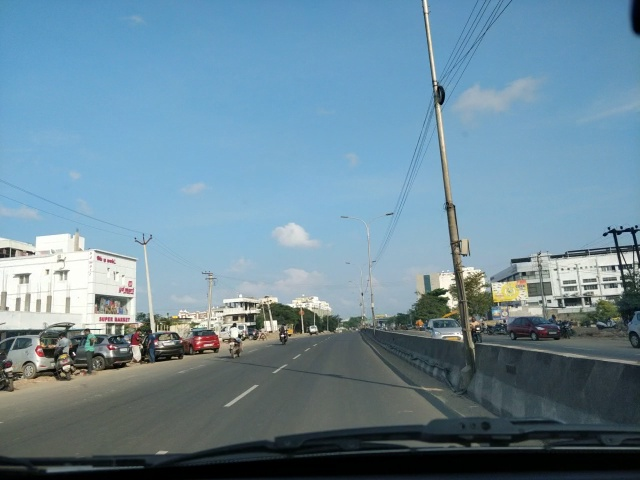auto: (287, 321, 295, 336)
car: (3, 335, 53, 378), (94, 334, 134, 370), (427, 316, 463, 354), (507, 315, 560, 339), (153, 329, 184, 360), (180, 331, 220, 355), (427, 317, 461, 340), (624, 309, 639, 348), (242, 323, 249, 339), (309, 326, 320, 335), (250, 327, 258, 339), (403, 324, 413, 331), (419, 323, 427, 331)
motorbike: (2, 357, 16, 389), (228, 320, 240, 356), (57, 361, 77, 381), (226, 337, 240, 360), (596, 317, 617, 329), (487, 323, 506, 335), (471, 325, 485, 341), (562, 318, 572, 339), (279, 334, 288, 343)
person: (53, 334, 74, 378), (82, 329, 97, 376), (131, 329, 145, 362), (132, 327, 145, 362), (145, 331, 157, 364), (58, 332, 71, 358), (148, 327, 156, 362), (228, 322, 240, 338), (470, 316, 481, 324), (261, 325, 267, 339), (280, 324, 286, 332)
